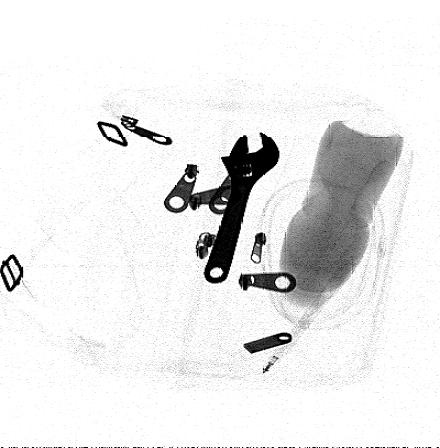Wrench: (204, 133, 278, 283)
